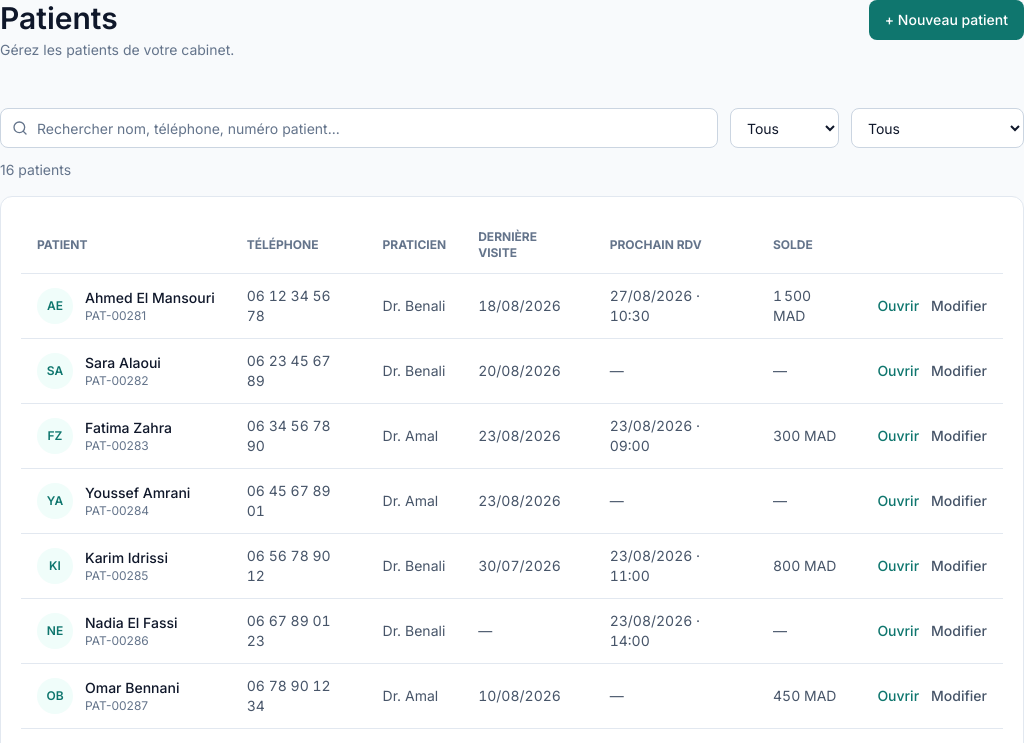
Test: PatientsPage › searches by name (4)
In the search field: x=359, y=128 x1=0 y1=108 x2=718 y2=148, type "Karim"
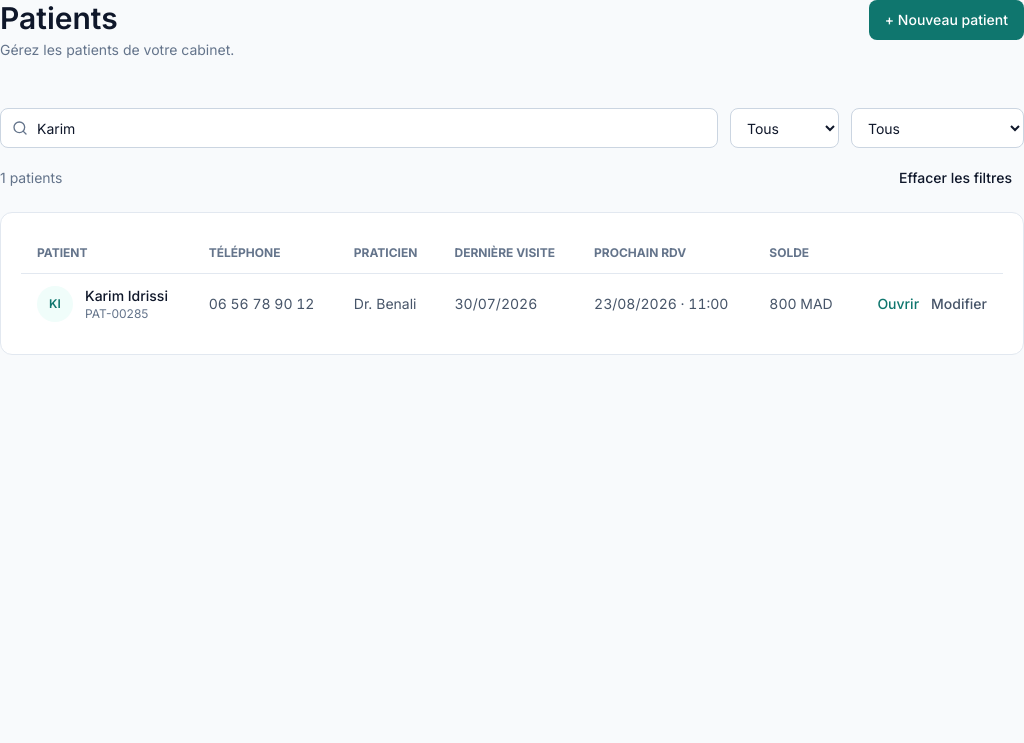
Expected: the text "Karim Idrissi" is shown, x1=85 y1=286 x2=168 y2=306
Now the text "Ahmed El Mansouri" is gone
